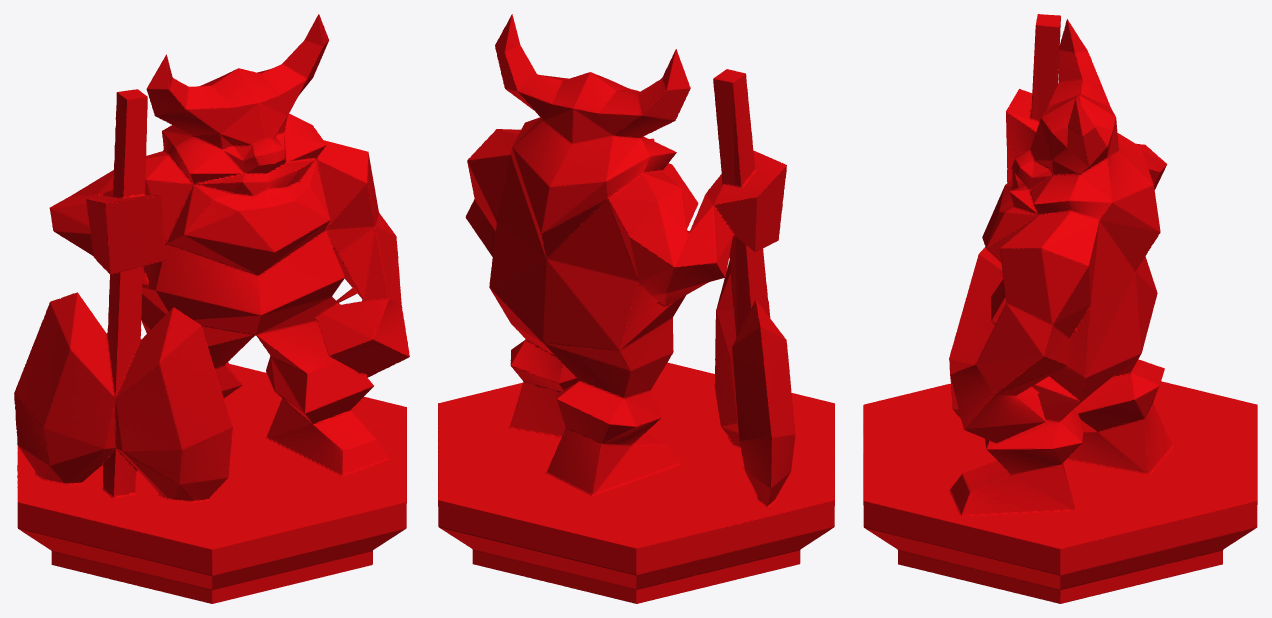
Rendered from DwarfAxeMan.glb.
3 views of the same model, side by side, from view 1: azimuth 30°, elevation 25°; view 2: azimuth 150°, elevation 25°; view 3: azimuth 270°, elevation 25° (orthographic).
Visible parts, largest first — view 1: DwarfAxeMan; view 2: DwarfAxeMan; view 3: DwarfAxeMan.
Boxes of the visible parts, x1,y1,x2,y2 form: DwarfAxeMan: (14, 14, 409, 603); DwarfAxeMan: (438, 14, 834, 603); DwarfAxeMan: (863, 14, 1257, 603).
Bounding box in the file's own units: 0.1145 × 0.1347 × 0.0992.
